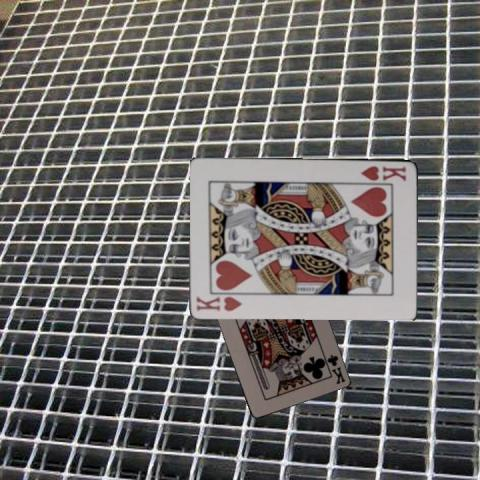Kc: (324, 352, 347, 386)
Kh: (358, 162, 408, 182), (194, 293, 244, 312)
